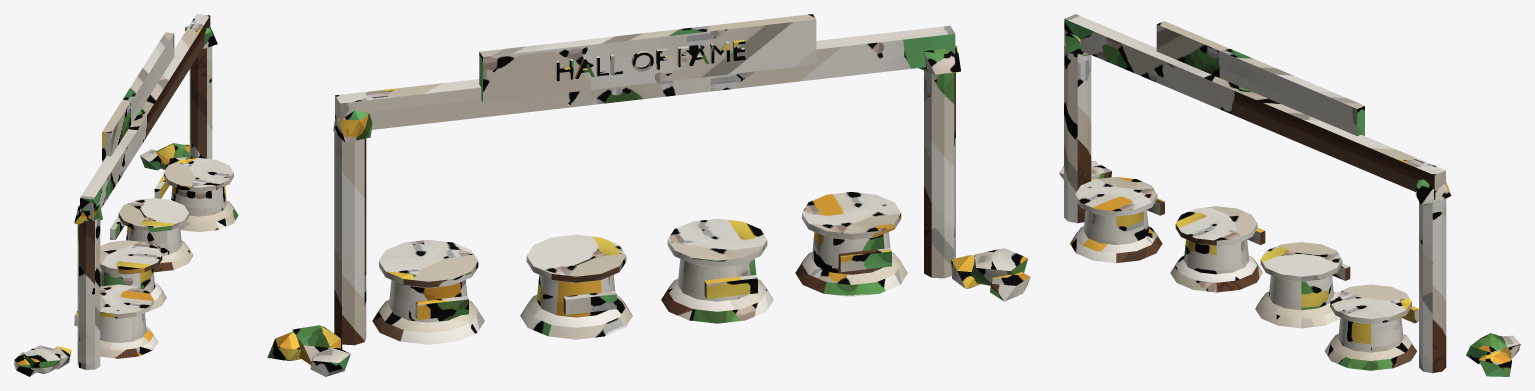
The model's file is hub_fame.fbx.
The picture shows the model from 3 angles, left to right: view 1: azimuth 30°, elevation 25°; view 2: azimuth 150°, elevation 25°; view 3: azimuth 270°, elevation 25°; orthographic projection. The views are drawn at different scales.
Parts seen in each view (by area): view 1: hub_fame_body; view 2: hub_fame_body; view 3: hub_fame_body.
Part boxes in pixels (x1,y1,x2,y2): hub_fame_body: [14, 14, 238, 376]; hub_fame_body: [267, 14, 1030, 376]; hub_fame_body: [1059, 14, 1520, 376].
Bounding box in the file's own units: 1755 × 918 × 1693.
Materials: 1 (1 with a texture image).
